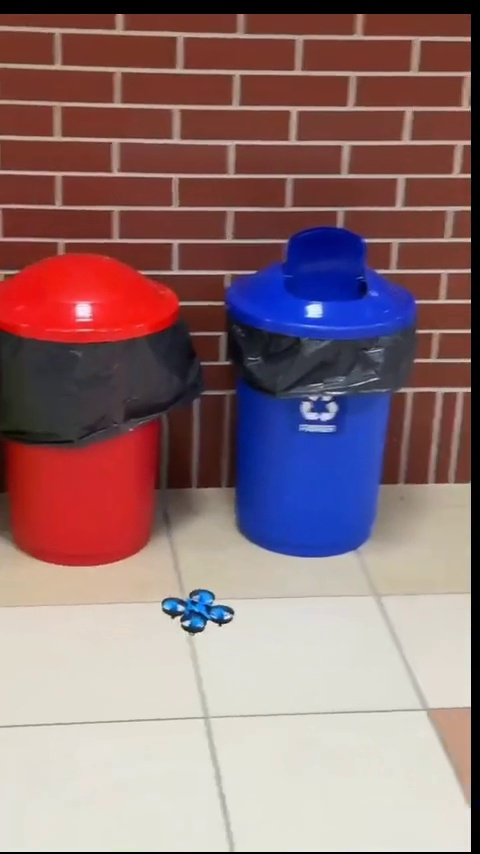drone: (160, 589, 230, 637)
